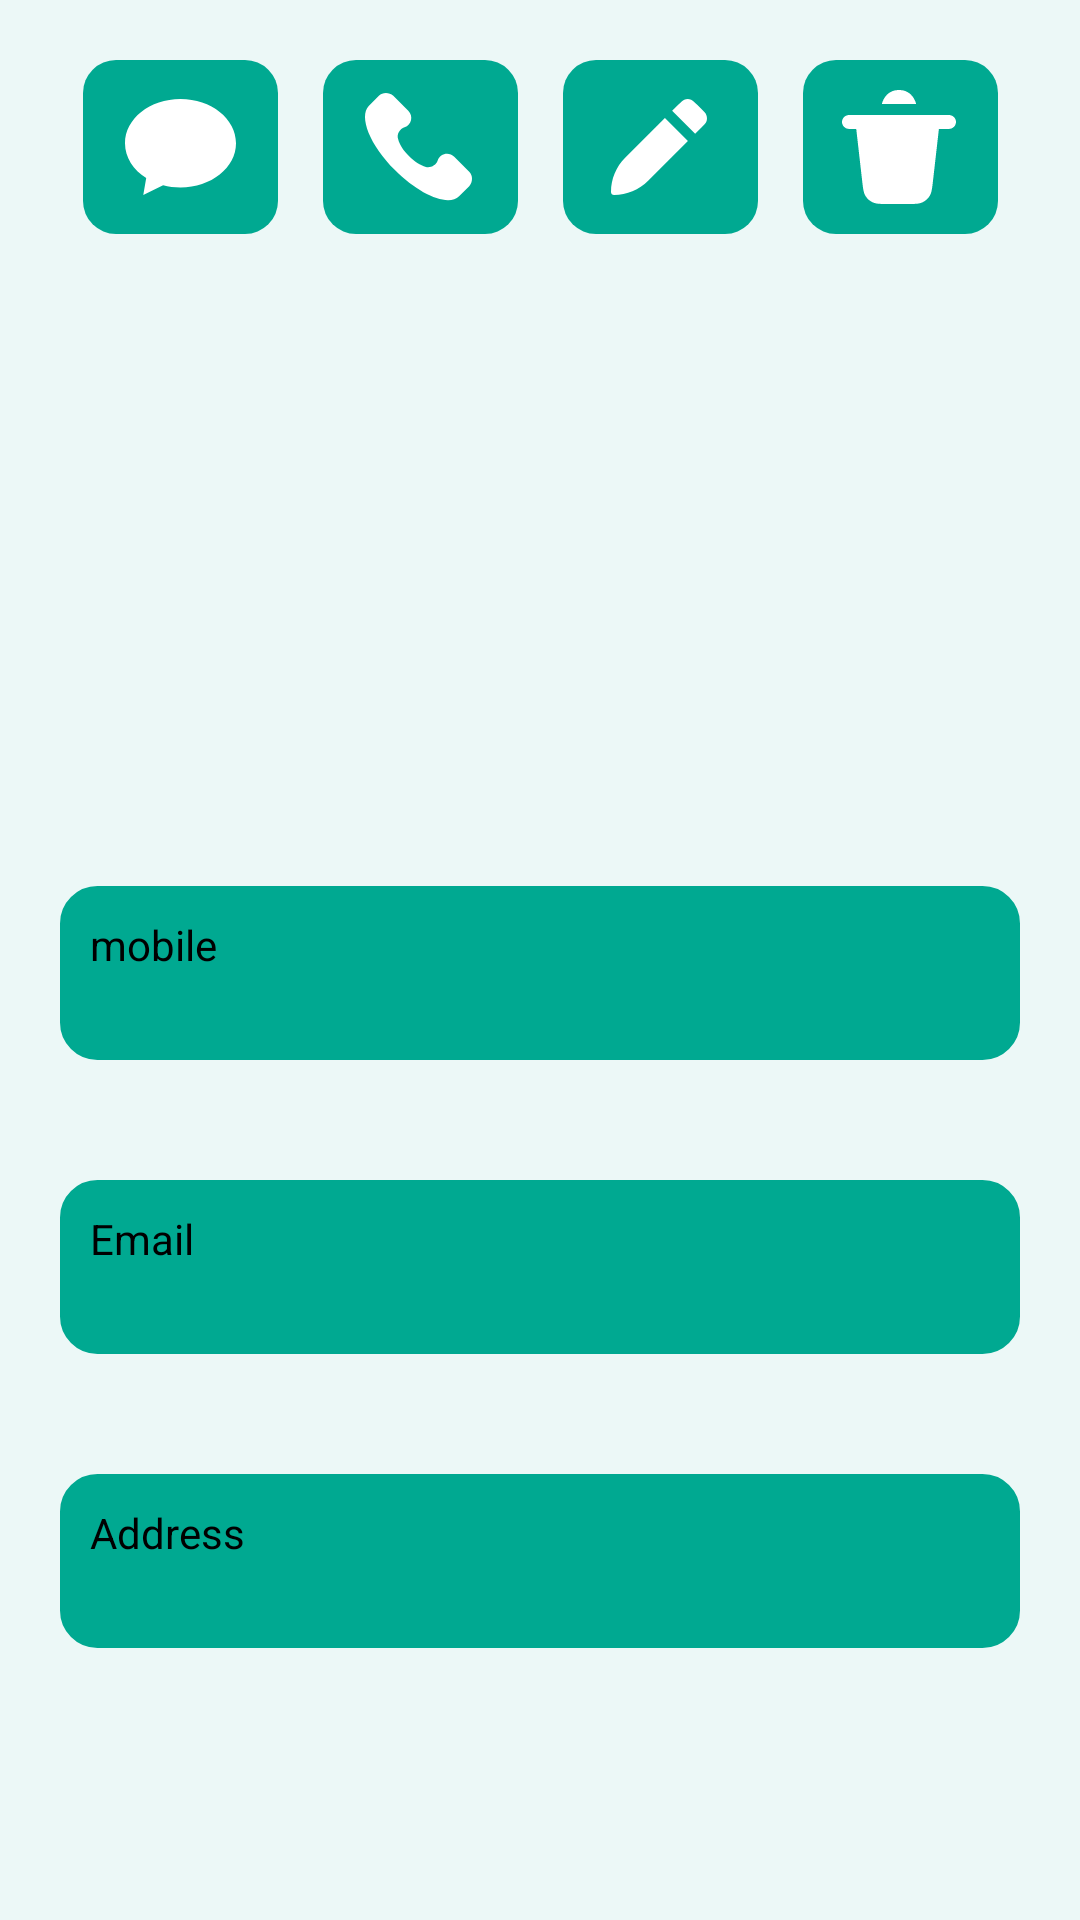

Locate icon controls on the screen. Image size 1080px×1920px, boxes as {"left": x1, "top": y1, "right": x2, "bottom": y2}.
call: {"left": 323, "top": 60, "right": 518, "bottom": 234}
delete: {"left": 803, "top": 60, "right": 998, "bottom": 234}
edit: {"left": 563, "top": 60, "right": 758, "bottom": 234}
message: {"left": 83, "top": 60, "right": 278, "bottom": 234}
